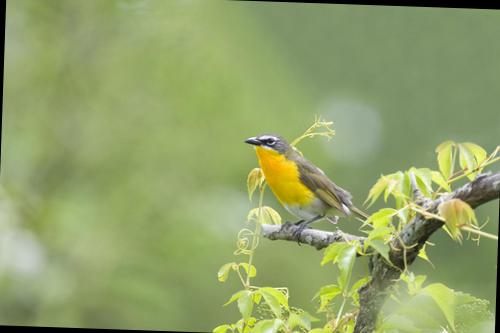bird: (226, 126, 374, 248)
